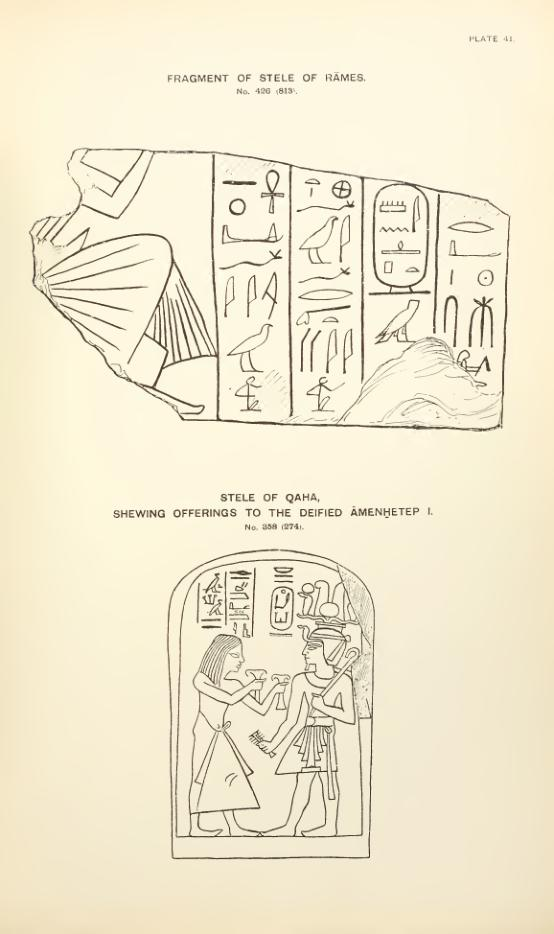circle: (370, 179, 431, 300), (268, 585, 295, 639)
